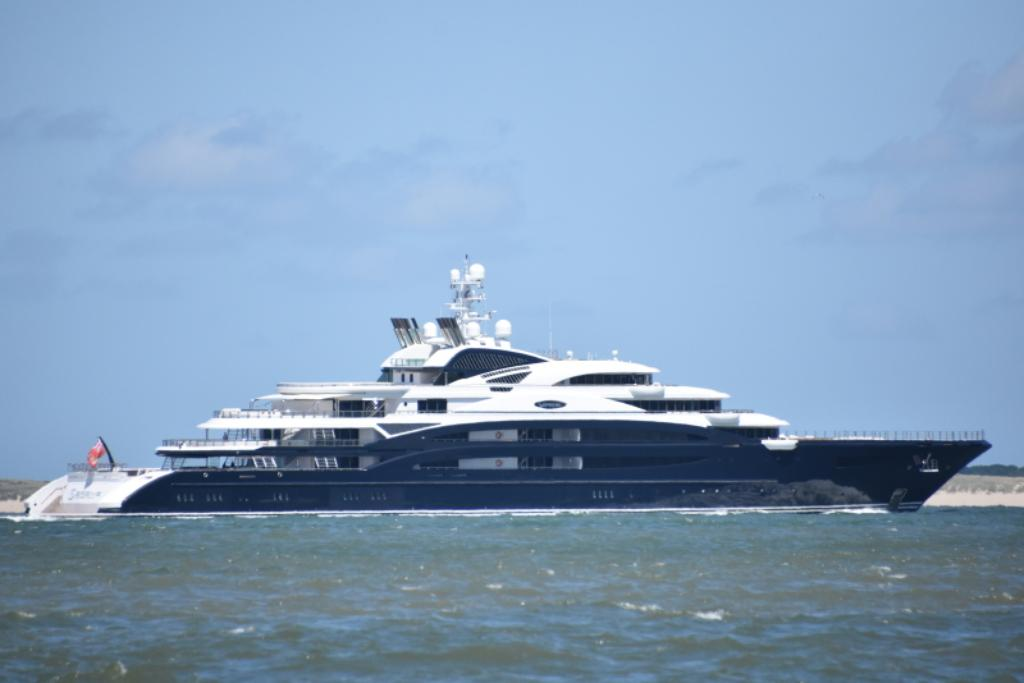PassengerShip: (23, 260, 993, 518)
